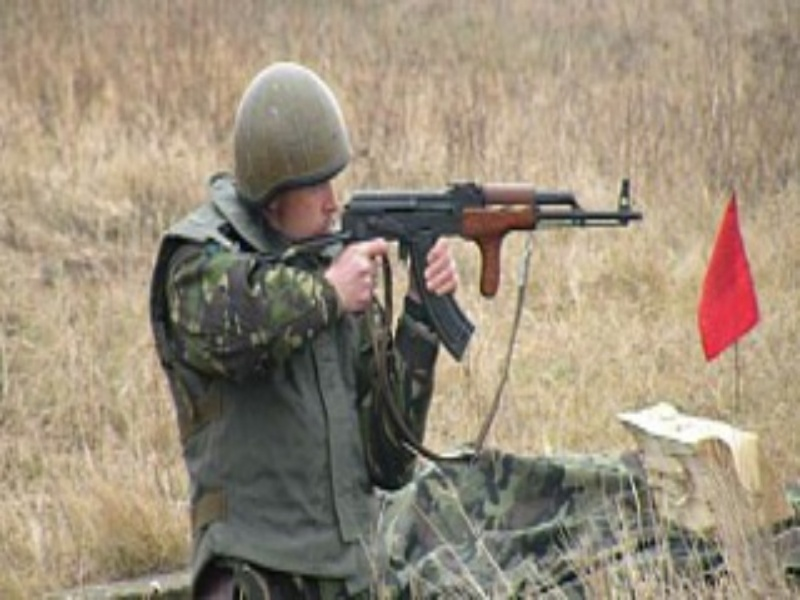person: (149, 61, 459, 600)
weapon: (248, 179, 645, 363)
